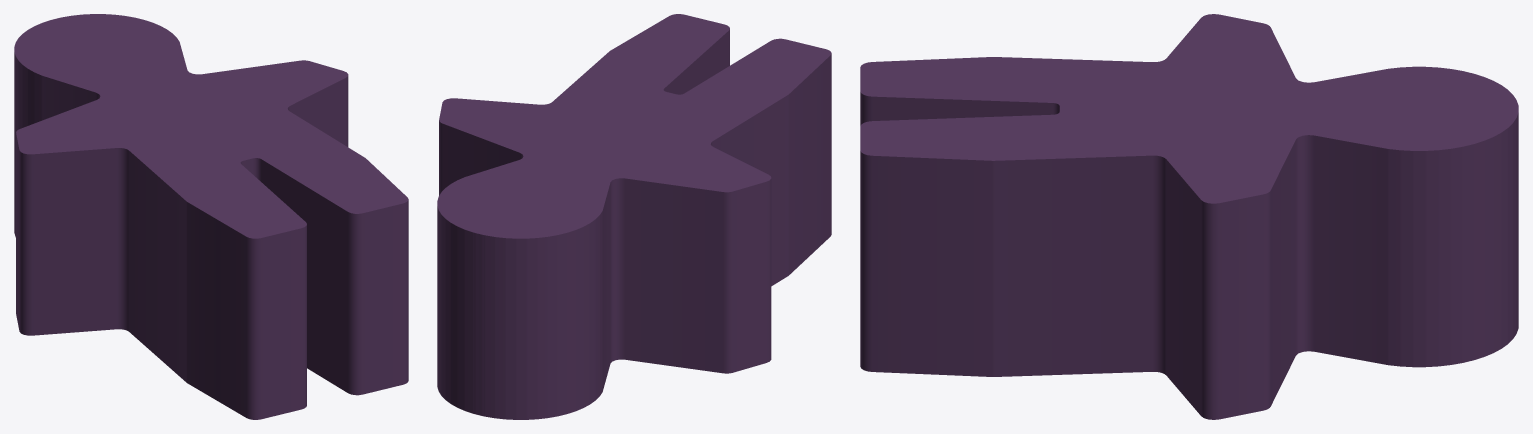
File: meeple_purple.glb
3 views of the same model, side by side, from view 1: azimuth 30°, elevation 25°; view 2: azimuth 150°, elevation 25°; view 3: azimuth 270°, elevation 25° (orthographic). The views are drawn at different scales.
Visible parts, largest first — view 1: meeple_purple; view 2: meeple_purple; view 3: meeple_purple.
Part boxes in pixels (x1,y1,x2,y2): meeple_purple: (14, 14, 408, 419); meeple_purple: (437, 14, 831, 419); meeple_purple: (860, 14, 1518, 419).
Bounding box in the file's own units: 0.0151 × 0.008 × 0.0221.
